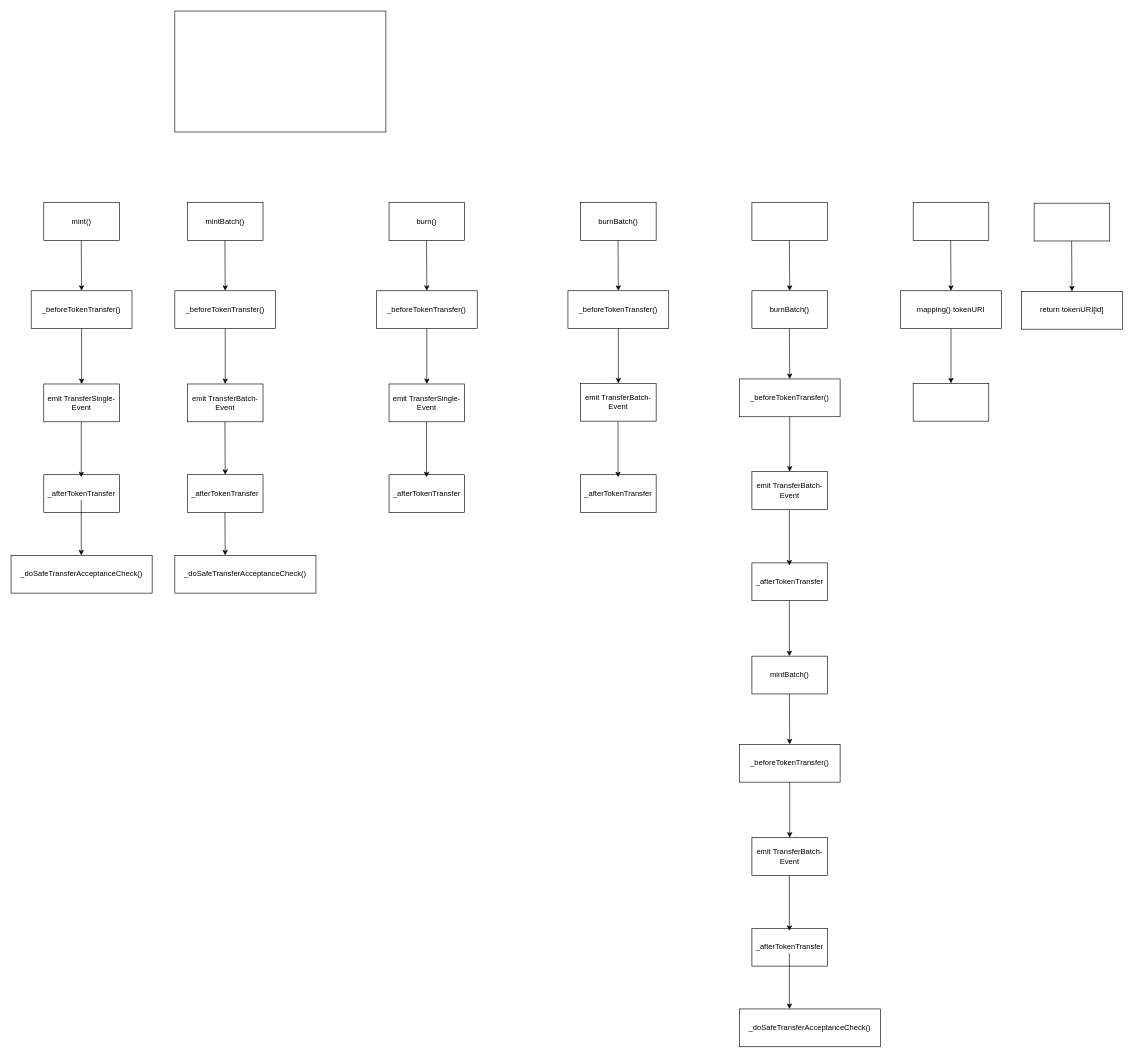
Some shapes in this 1133 by 1058 pixel diagram are drawn without their labels. The shapes that lost their labels are listed below. From the top down, each one's box as (x1, y1, x2, y2) in pixels, then its label:
(174, 10, 386, 132): HogWarts Smart Contract
(751, 202, 828, 240): burnForMint()
(913, 202, 989, 240): setURI()
(1034, 203, 1110, 241): uri()
(913, 383, 989, 421): emit URI
